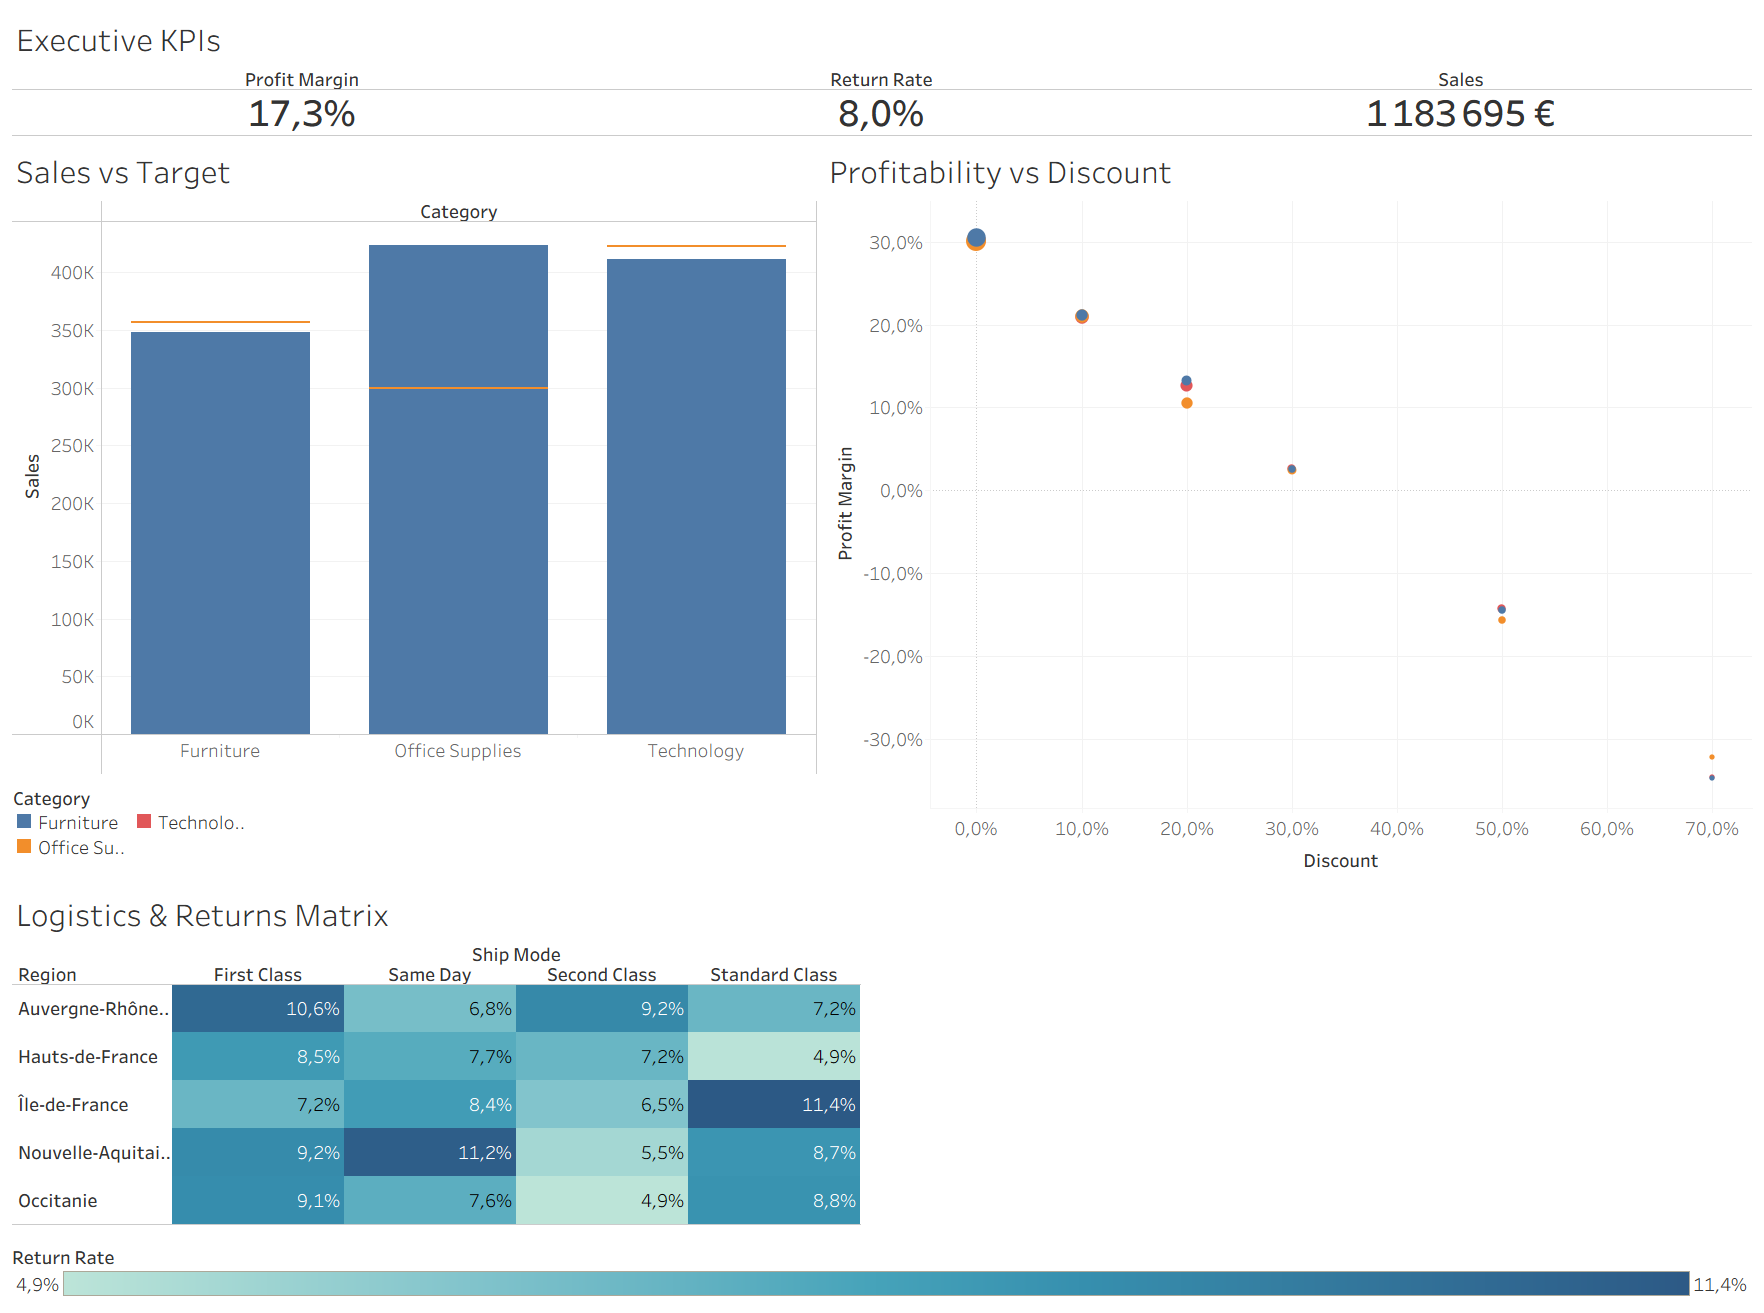

The page's visual inventory and layout, read from the dashboard file:
{"tool":"tableau","page":{"name":"Dashboard 1","canvas":[1000,1000],"units":"permille","ordinal":0},"visuals":[{"type":"worksheet","title":"Executive KPIs","mark":"Automatic","box":[4.5,6.1,990.9,100.2]},{"type":"worksheet","title":"Sales vs Target","mark":"Automatic","rows":["sales","target_sales"],"cols":["category"],"box":[4.5,106.3,460.9,486.7]},{"type":"worksheet","title":"Profitability vs Discount","mark":"Circle","rows":["Calculation_1073994057334784"],"cols":["discount"],"box":[465.4,106.3,530,566]},{"type":"legend","title":"Profitability vs Discount","param":"[federated.0nfo2yu13d5rxk159op790306l7f].[none:category:nk]","box":[4.5,593.1,460.9,79.3]},{"type":"worksheet","title":"Logistics & Returns Matrix","mark":"Square","rows":["region"],"cols":["ship_mode"],"box":[4.5,672.4,990.9,269]},{"type":"legend","title":"Logistics & Returns Matrix","param":"[federated.0nfo2yu13d5rxk159op790306l7f].[usr:Calculation_1073994057596930:qk]","box":[4.5,941.4,990.9,52.6]}]}

Visuals, with their boxes on the dashboard's canvas, which has no fixed pixel size, in thousandths of its width and height (x1, y1, x2, y2). These are canvas units, not pixel positions in the 1764x1313 screenshot, which may show the page scaled, cropped or inside an application window:
"Executive KPIs" worksheet: [left=4, top=6, right=995, bottom=106]
"Sales vs Target" worksheet: [left=4, top=106, right=465, bottom=593]
"Profitability vs Discount" worksheet (Circle marks): [left=465, top=106, right=995, bottom=672]
"Profitability vs Discount" legend: [left=4, top=593, right=465, bottom=672]
"Logistics & Returns Matrix" worksheet (Square marks): [left=4, top=672, right=995, bottom=941]
"Logistics & Returns Matrix" legend: [left=4, top=941, right=995, bottom=994]
